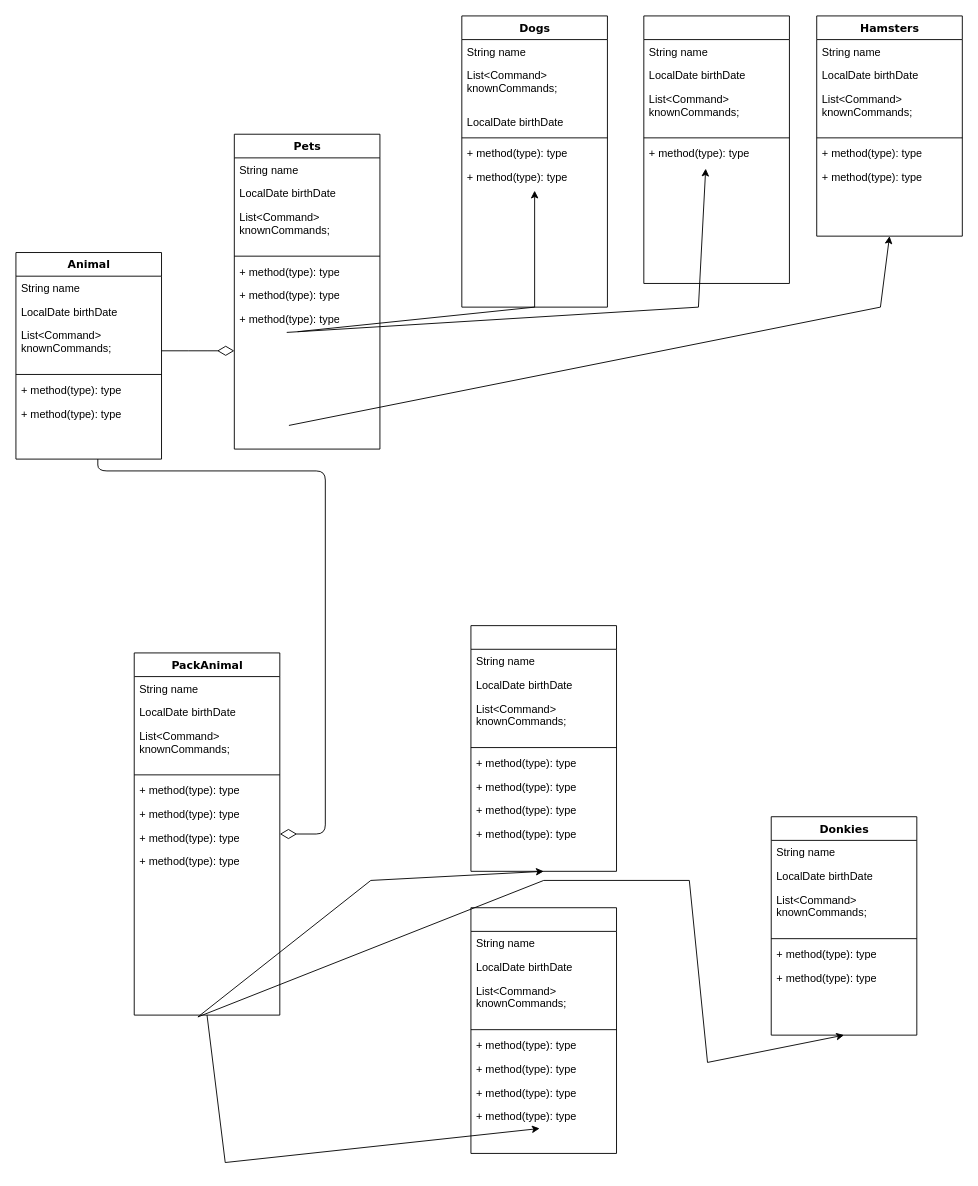
Image size: 978x1186. Some labels were removed from this diagram. The shapes that lost their labels are listed below. From the top down, each one's box as (x1, y1, x2, y2) in pixels, then its label:
(643, 15, 789, 283): Cats
(470, 625, 617, 871): Camels
(470, 907, 617, 1153): Horses
